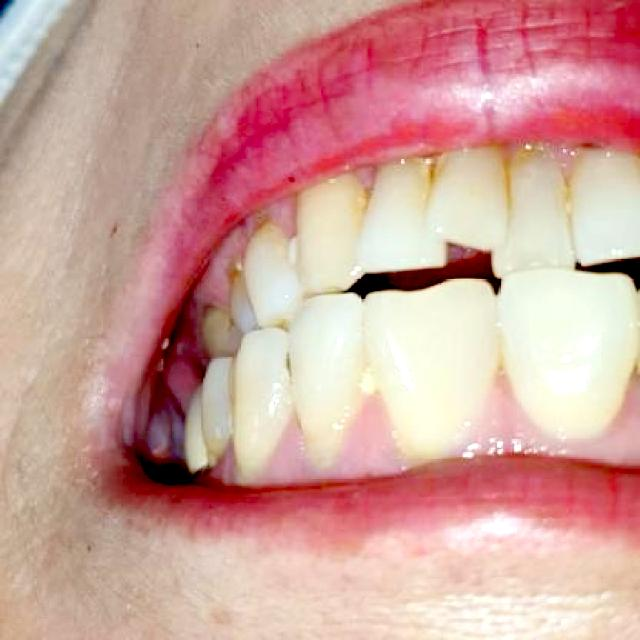Plaque: (277, 352, 300, 394)
